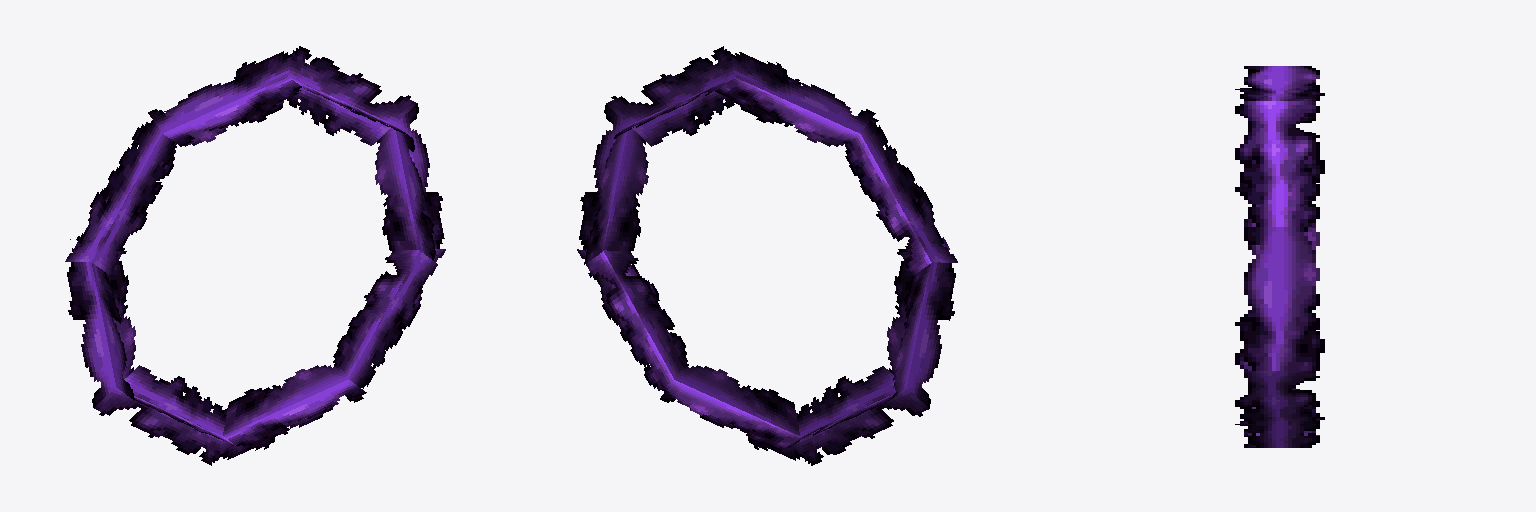
3 renders of one model, left to right at view 1: azimuth 30°, elevation 25°; view 2: azimuth 150°, elevation 25°; view 3: azimuth 270°, elevation 25°, orthographic.
Visible parts, largest first — view 1: T1L3M008_26; view 2: T1L3M008_26; view 3: T1L3M008_26.
Boxes of the visible parts, <box> form: T1L3M008_26: <box>65,46,445,465</box>; T1L3M008_26: <box>577,46,957,465</box>; T1L3M008_26: <box>1235,66,1324,447</box>.
Bounding box in the file's own units: 2.83 × 2.83 × 0.5957.
1 materials, 1 textured.